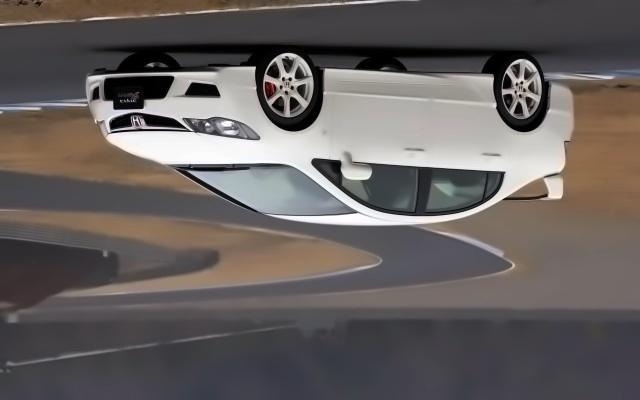Car hood: (99, 128, 278, 170)
Driver-s door - -F-R-: (325, 80, 428, 222)
Fender - -F-R-: (257, 69, 329, 170)
Fender - -R-R-: (508, 94, 556, 181)
Front bumper: (81, 63, 266, 124)
Headlight - -L-: (92, 117, 114, 139)
Headlight - -R-: (179, 114, 261, 144)
Passenger-s door - -R-R-: (427, 82, 507, 225)
Rear bumper: (544, 78, 580, 127)
Rear light - -R-: (556, 134, 574, 165)
Side bumper - -R-: (319, 62, 504, 111)
Side mirror - -R-: (334, 150, 378, 185)
